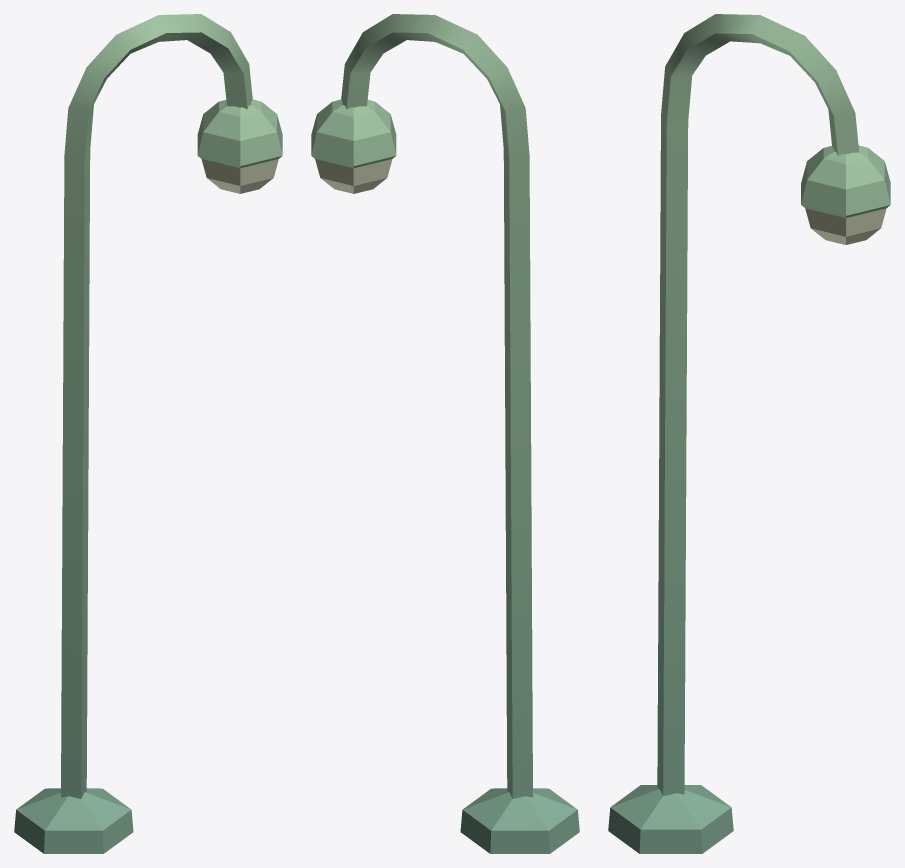
File: PR_Lamppost.fbx
3 renders of one model, left to right at view 1: azimuth 30°, elevation 25°; view 2: azimuth 150°, elevation 25°; view 3: azimuth 330°, elevation 25°, orthographic. The views are drawn at different scales.
Visible parts, largest first — view 1: PR_Lamppost; view 2: PR_Lamppost; view 3: PR_Lamppost.
Boxes of the visible parts, <box> form: PR_Lamppost: <box>14,14,282,853</box>; PR_Lamppost: <box>311,14,579,853</box>; PR_Lamppost: <box>608,14,890,853</box>.
Bounding box in the file's own units: 98.2 × 295 × 40.
